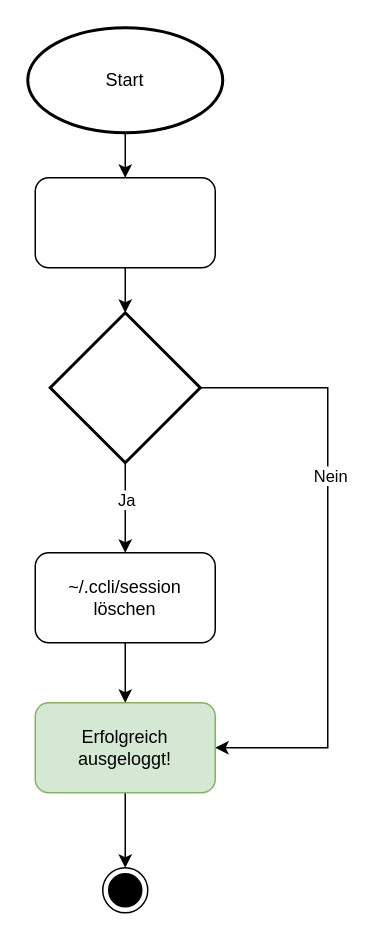
Image size: 372x939. Some labels were removed from this diagram. Here are the shapes that lost their labels. From the top down, the box of each, then its label:
(34, 176, 215, 268): ccli Logout
(48, 310, 201, 464): ~/.ccli/session vorhanden?
